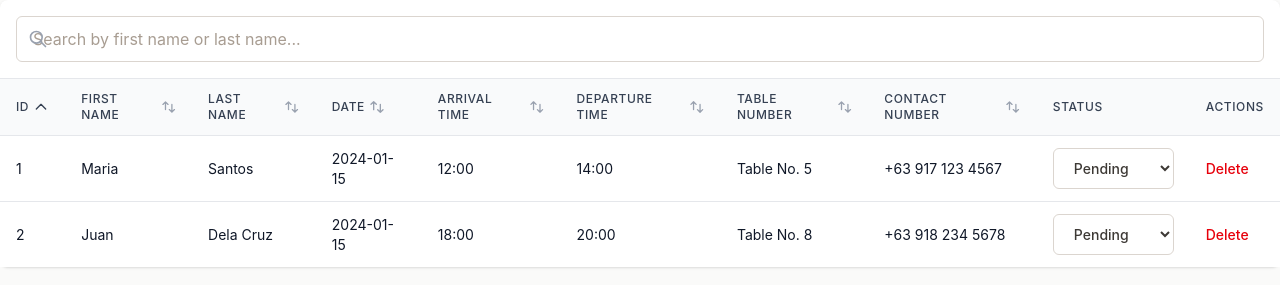
Test case: ReservationTable › should display empty state when search has no results
In the field with placeholder "Search by first name or last name...": (640, 39) [16,16,1264,62], type "NonExistent"
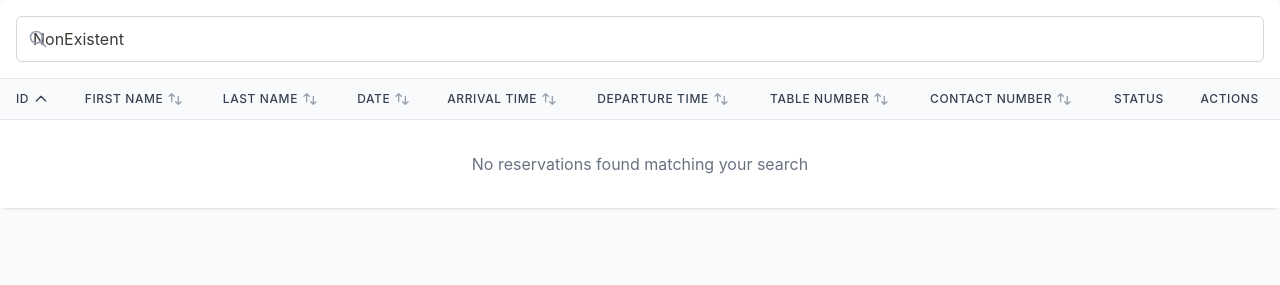
Expected: the text "No reservations found matching your search" is shown, [0,120,1279,208]
